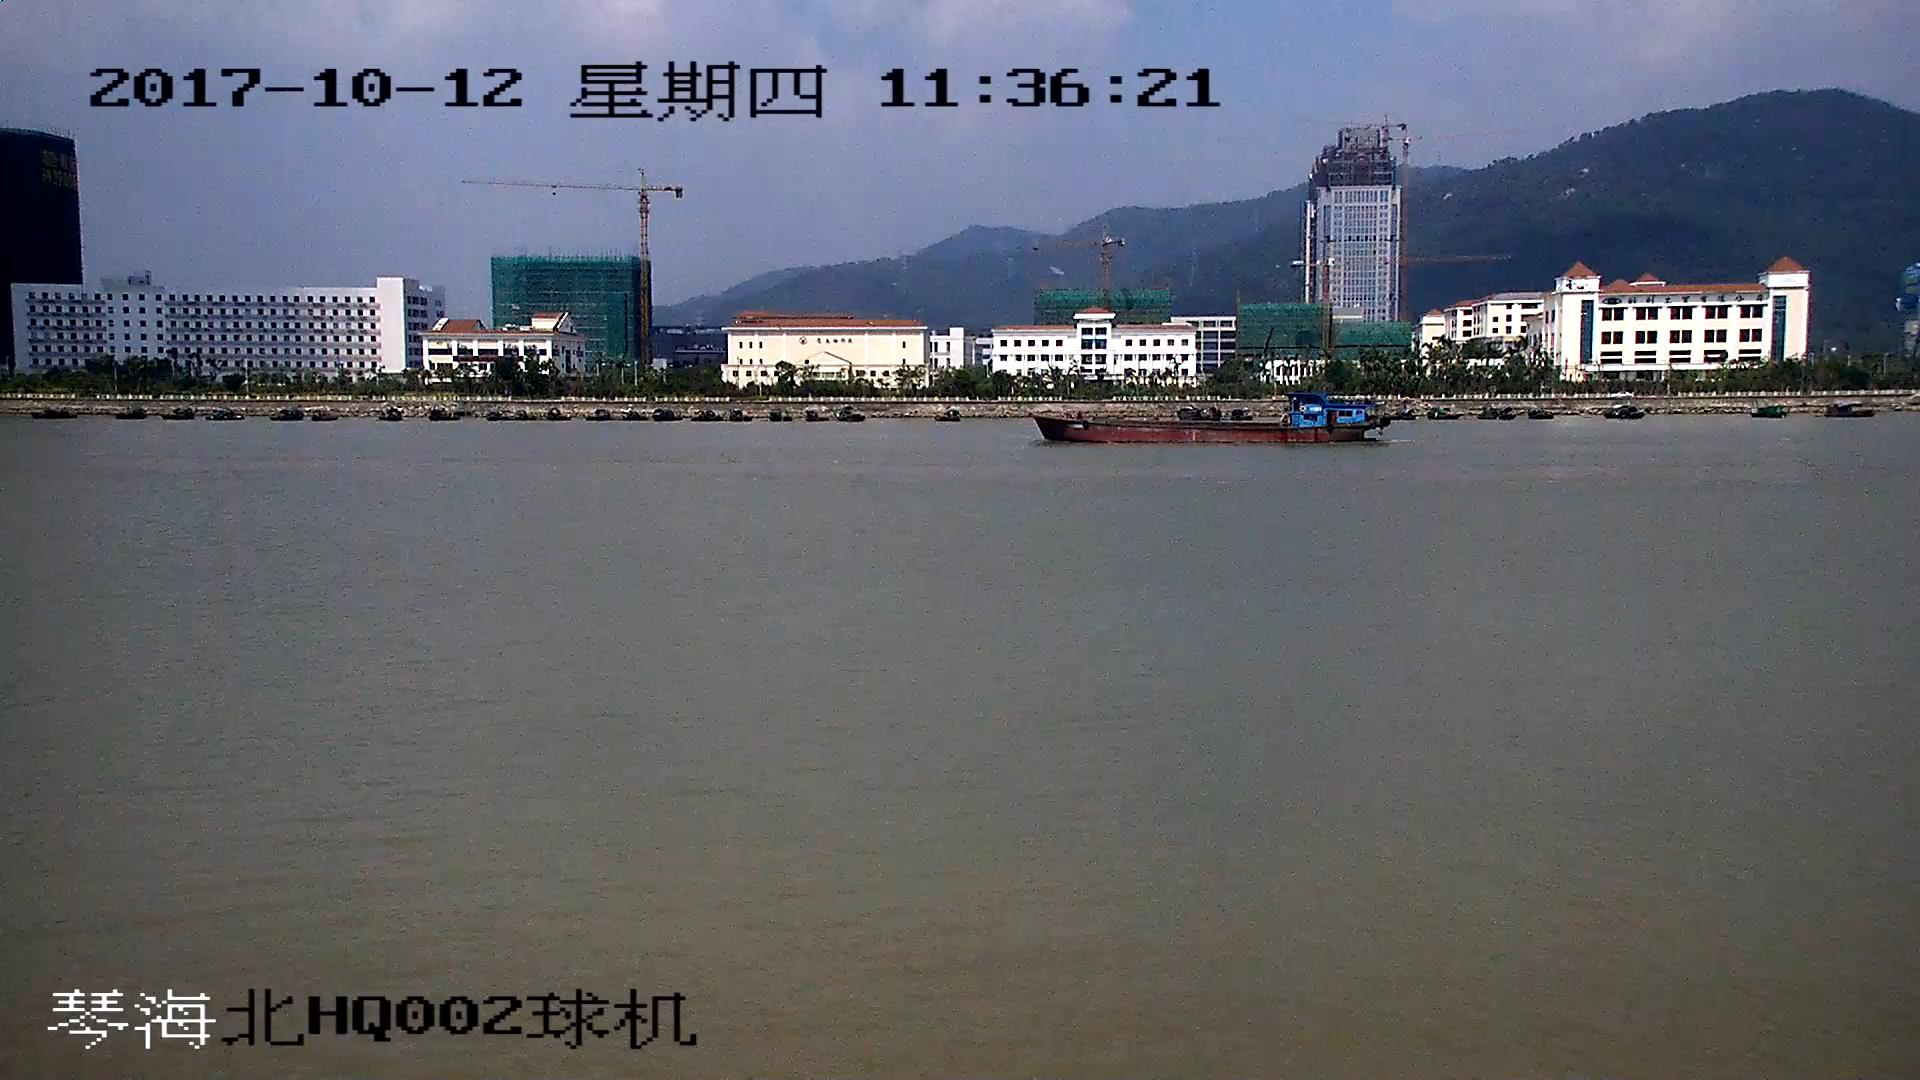bulk cargo carrier: (1034, 387, 1378, 447)
